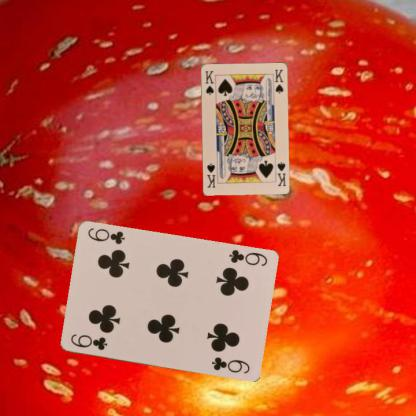6c: (226, 247, 268, 268), (68, 331, 108, 352)
Ks: (203, 68, 215, 96), (274, 159, 286, 187)
